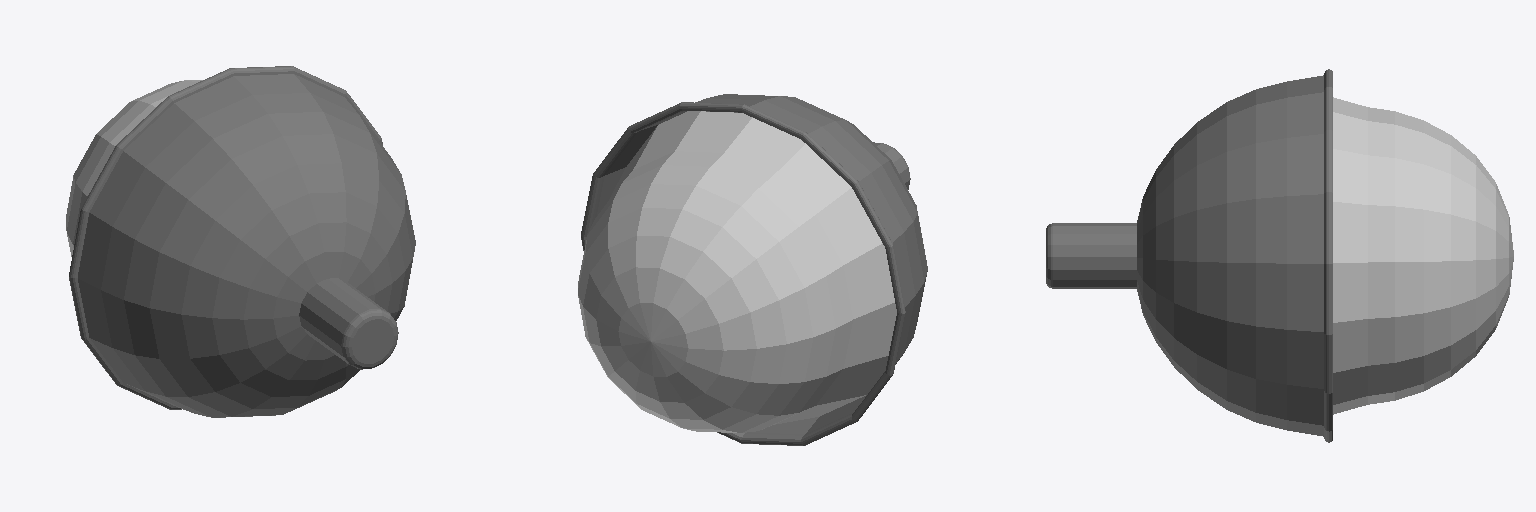
3 renders of one model, left to right at view 1: azimuth 30°, elevation 25°; view 2: azimuth 150°, elevation 25°; view 3: azimuth 270°, elevation 25°, orthographic.
Parts seen in each view (by area): view 1: Glocke_BezierCurve.004, Glas_BezierCurve.005; view 2: Glas_BezierCurve.005, Glocke_BezierCurve.004; view 3: Glocke_BezierCurve.004, Glas_BezierCurve.005.
Boxes of the visible parts, box(x1,y1,x2,y2) form: Glocke_BezierCurve.004: box(69, 66, 415, 417); Glas_BezierCurve.005: box(66, 80, 202, 256); Glas_BezierCurve.005: box(578, 111, 896, 432); Glocke_BezierCurve.004: box(581, 94, 927, 445); Glocke_BezierCurve.004: box(1046, 69, 1332, 442); Glas_BezierCurve.005: box(1333, 97, 1513, 414).
Size of the model in its own units: 0.4989 by 0.4989 by 0.6254.
2 materials, 1 textured.